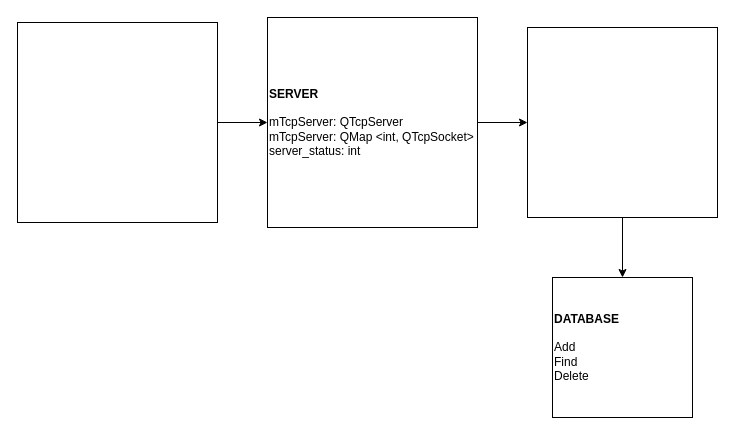
This 735x435 diagram has some shape labels left out. The shapes that lost their labels are listed below. From the top down, each one's centre as x and y in pixels, then its label:
At pixel 117 122: "CLIENT Connect Disconnect SendMessage".
At pixel 622 122: "FUNCTIONS Login Registration CheckStat Parsing".
